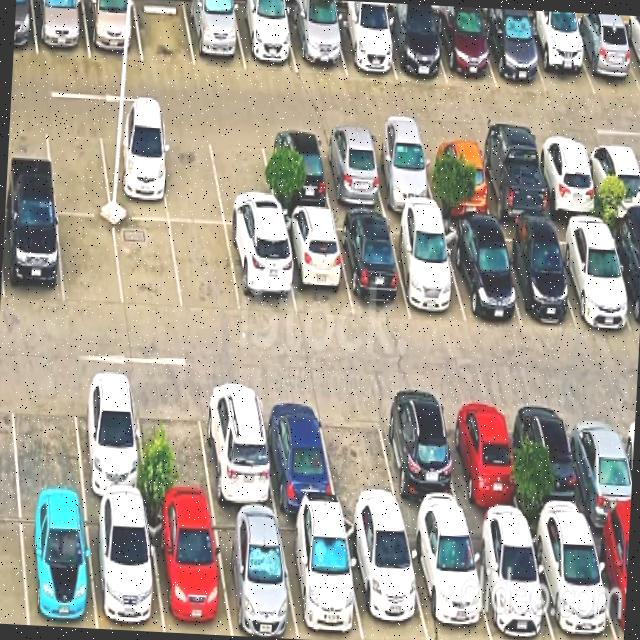empty: (318, 394, 401, 519), (135, 380, 214, 509), (10, 375, 84, 499), (208, 129, 278, 227), (157, 126, 224, 223), (114, 219, 182, 313), (170, 222, 240, 313), (45, 119, 111, 215), (57, 214, 123, 307), (134, 0, 195, 66)
occupied: (376, 396, 465, 521), (212, 511, 298, 639), (278, 515, 363, 640), (148, 508, 231, 636), (442, 397, 524, 525), (343, 517, 428, 640), (467, 523, 554, 640), (405, 523, 491, 640), (86, 503, 164, 632), (198, 384, 276, 512), (529, 525, 615, 640), (258, 388, 337, 513), (73, 375, 148, 504), (20, 502, 96, 629), (513, 399, 589, 525), (552, 224, 633, 329), (565, 402, 632, 526), (388, 220, 466, 323), (494, 226, 575, 325), (442, 225, 521, 326), (335, 217, 410, 317), (280, 215, 353, 317), (99, 123, 169, 220), (226, 227, 296, 316), (475, 140, 549, 222), (3, 206, 63, 305), (422, 138, 493, 218), (261, 132, 332, 212), (368, 135, 437, 213), (317, 134, 386, 212), (570, 21, 640, 97), (525, 20, 595, 95), (534, 142, 601, 219), (480, 14, 546, 91), (433, 13, 497, 87), (589, 526, 630, 640), (381, 14, 447, 84), (233, 2, 297, 73), (332, 11, 397, 80), (584, 142, 640, 220), (184, 0, 246, 70), (286, 9, 346, 74), (83, 0, 142, 61), (607, 225, 640, 334), (32, 0, 90, 58), (619, 25, 640, 86)
